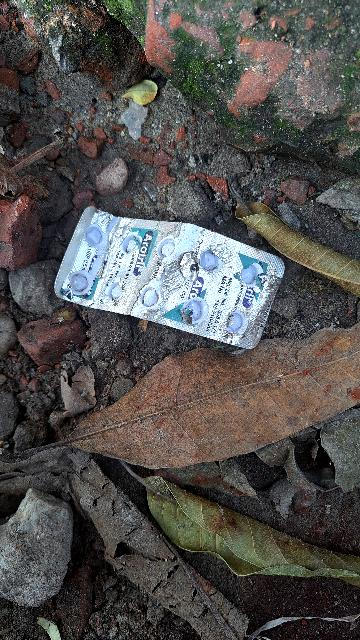medicine: (45, 191, 287, 351)
